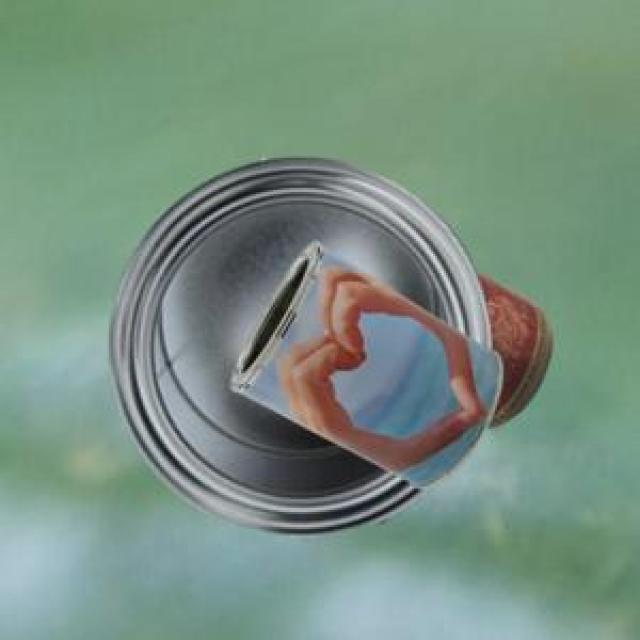Can: (108, 155, 487, 534), (227, 238, 498, 485), (474, 270, 549, 426)
